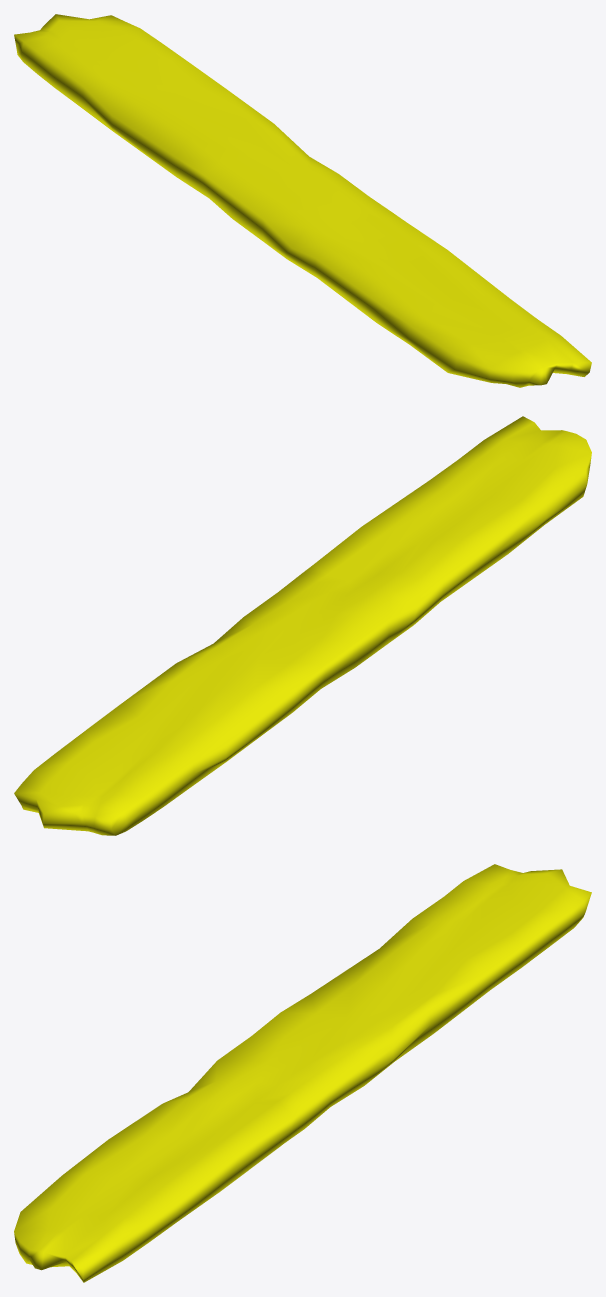
File: WoodenPlank.fbx
3 views of the same model, one above another, from view 1: azimuth 30°, elevation 25°; view 2: azimuth 150°, elevation 25°; view 3: azimuth 330°, elevation 25° (orthographic). The views are drawn at different scales.
Visible parts, largest first — view 1: WoodenPlankOneLow; view 2: WoodenPlankOneLow; view 3: WoodenPlankOneLow.
Boxes of the visible parts, bbox=[...] form: WoodenPlankOneLow: bbox=[14, 14, 591, 387]; WoodenPlankOneLow: bbox=[14, 416, 591, 835]; WoodenPlankOneLow: bbox=[14, 864, 591, 1282].
Bounding box in the file's own units: 0.1354 × 0.0316 × 1.08.
